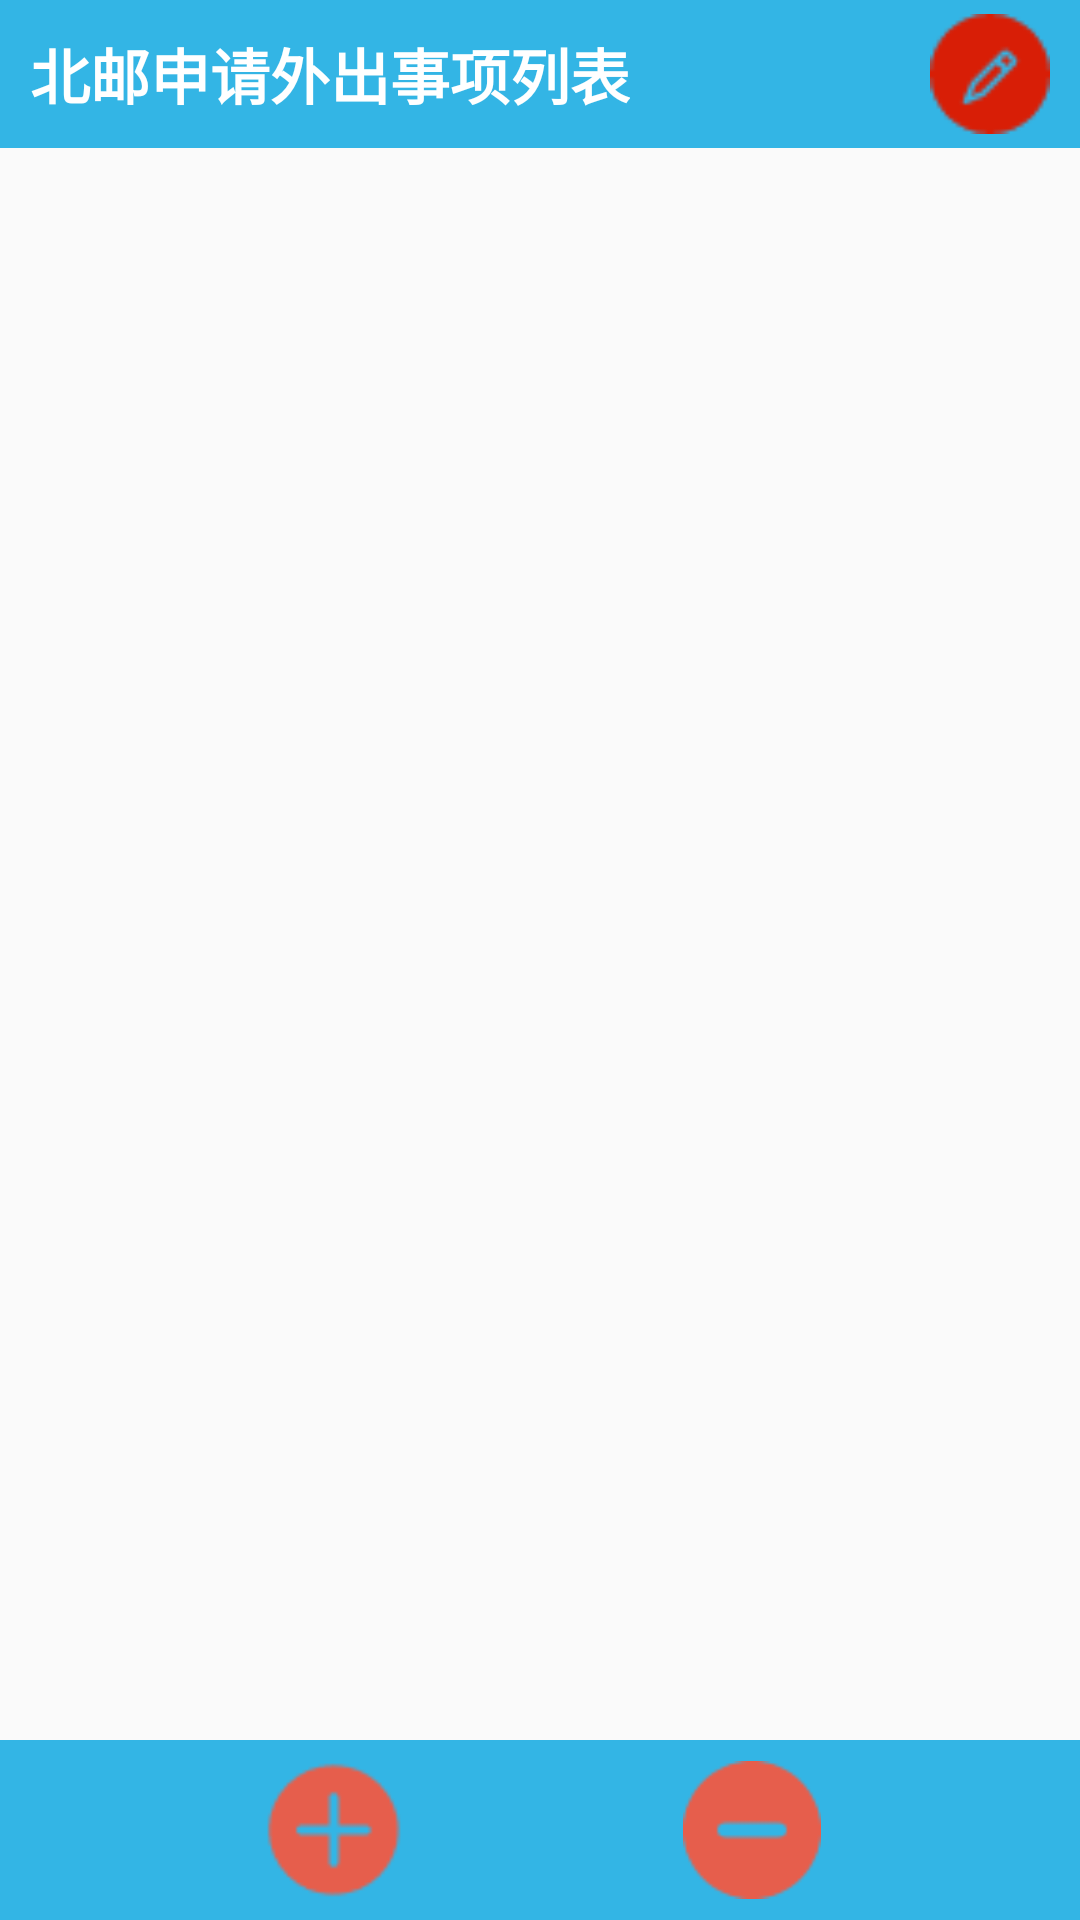

Point at icon controls on the screen. Image size 1080 × 1920, points as point (x, y).
add: point (333, 1829)
amend: point (990, 74)
delete: point (752, 1830)
